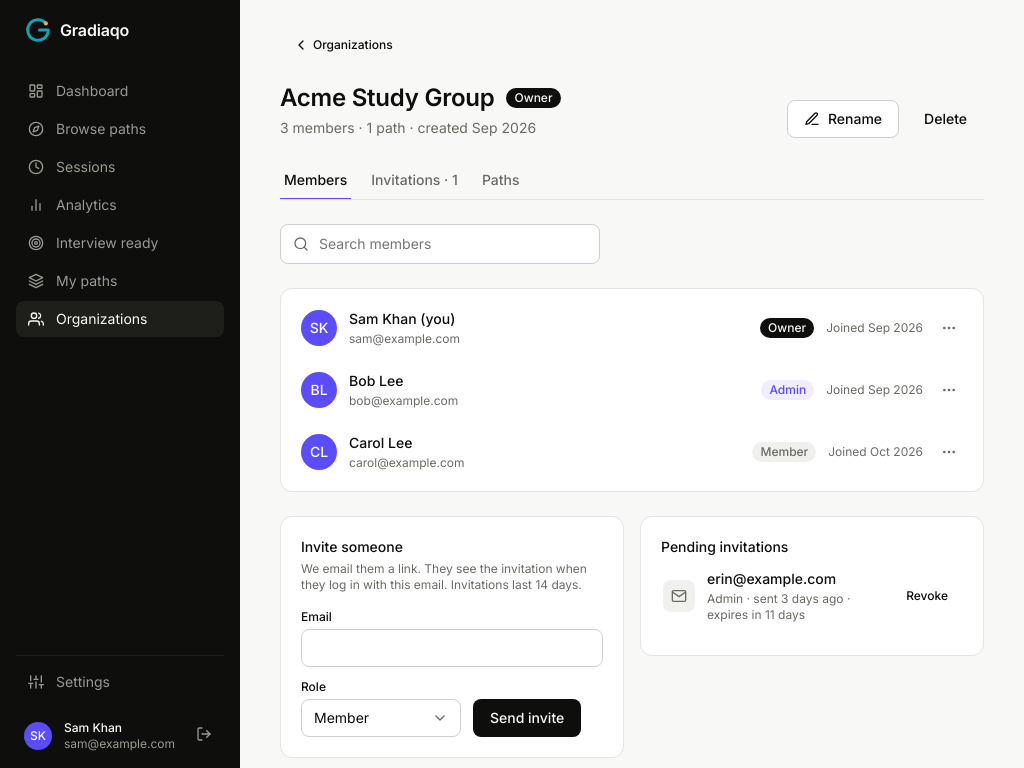
Test case: OrganizationPage › searches the members by name or email
In the search field labelled "Search members": {"x": 452, "y": 244} top-left (317, 233), bottom-right (587, 255), type "CAROL@"
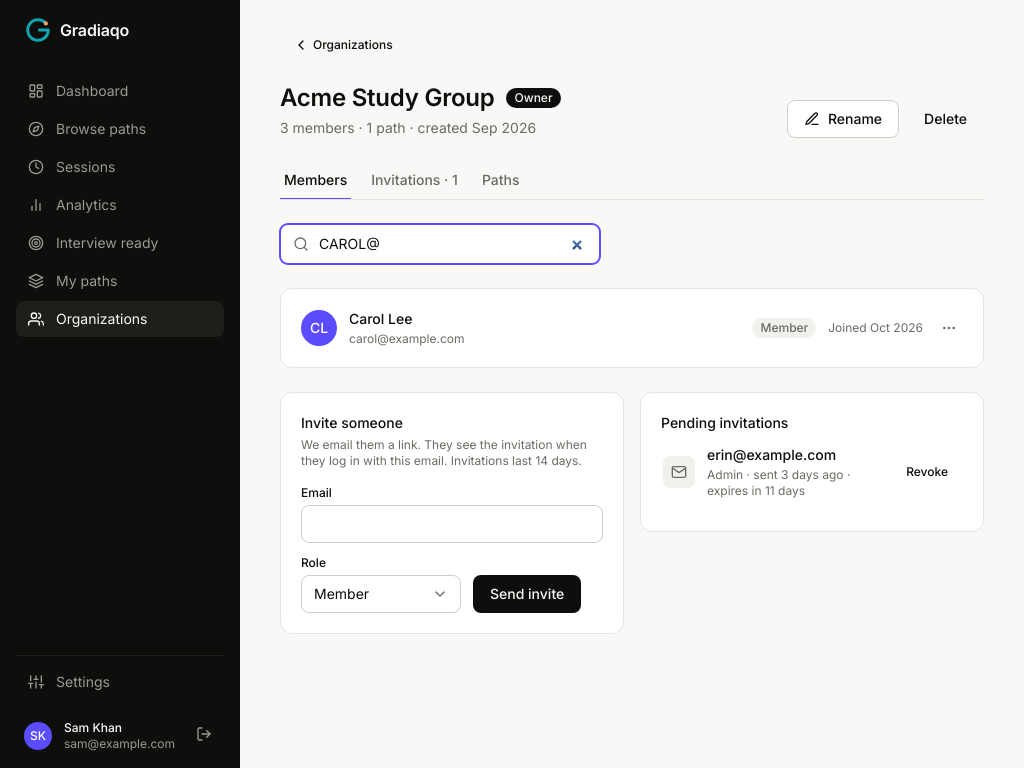
Now the list items read "CLCarol Leecarol@example.comMemberJoined Oct 2026", in this order, box top-left (301, 310), bottom-right (963, 346)
Replace the text in the search field named "Search members" with "zed": {"x": 452, "y": 244} top-left (317, 233), bottom-right (587, 255)
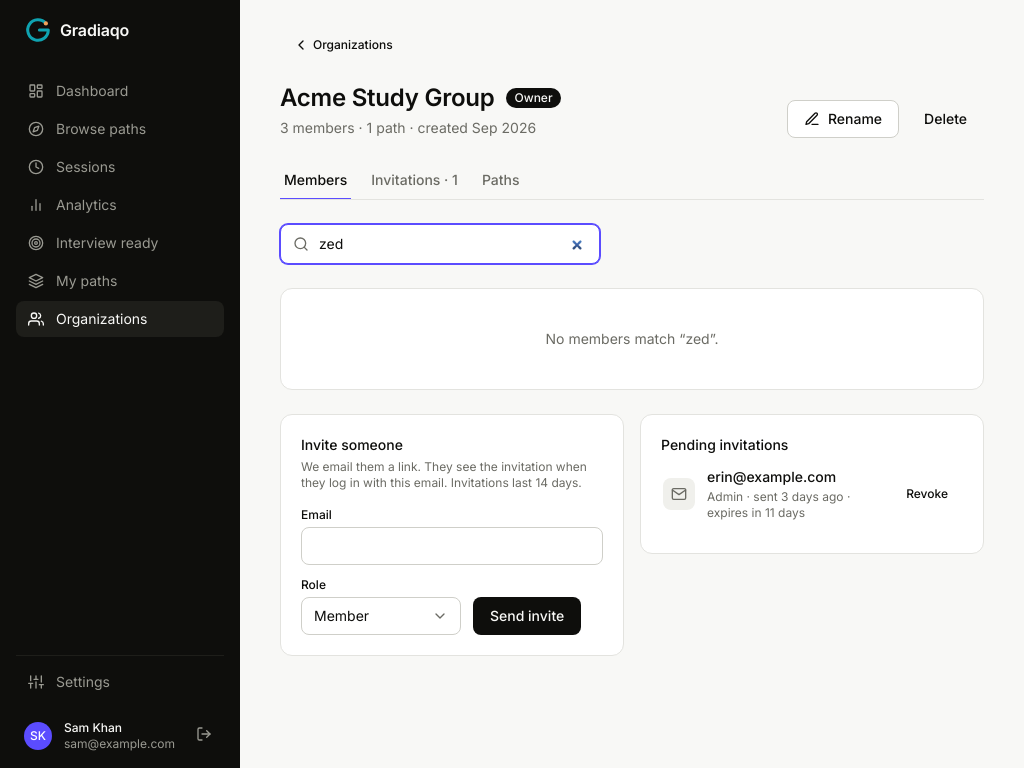
Now the element "members" reads "No members match “zed”.", box top-left (546, 330), bottom-right (718, 347)
